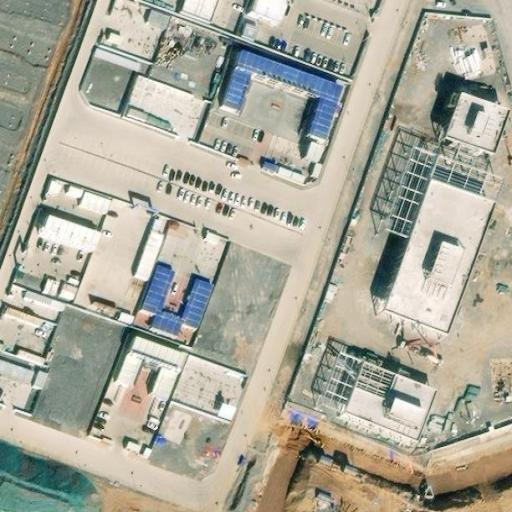building: (388, 180, 495, 331), (220, 46, 344, 138), (112, 65, 204, 143), (347, 363, 436, 439), (173, 352, 251, 423), (143, 263, 213, 333), (120, 332, 191, 400), (445, 92, 508, 152), (135, 215, 171, 284), (44, 215, 99, 251), (0, 356, 48, 389), (248, 0, 291, 25), (79, 190, 110, 214), (146, 9, 171, 30), (308, 143, 324, 161)
